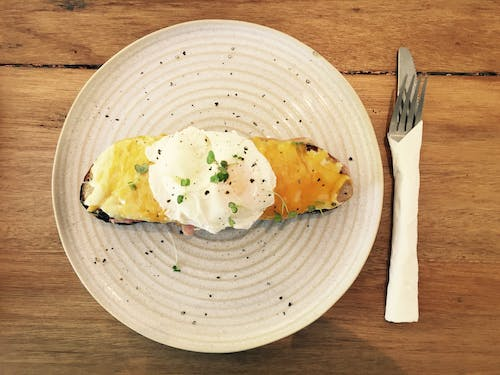knife: (396, 45, 418, 131)
